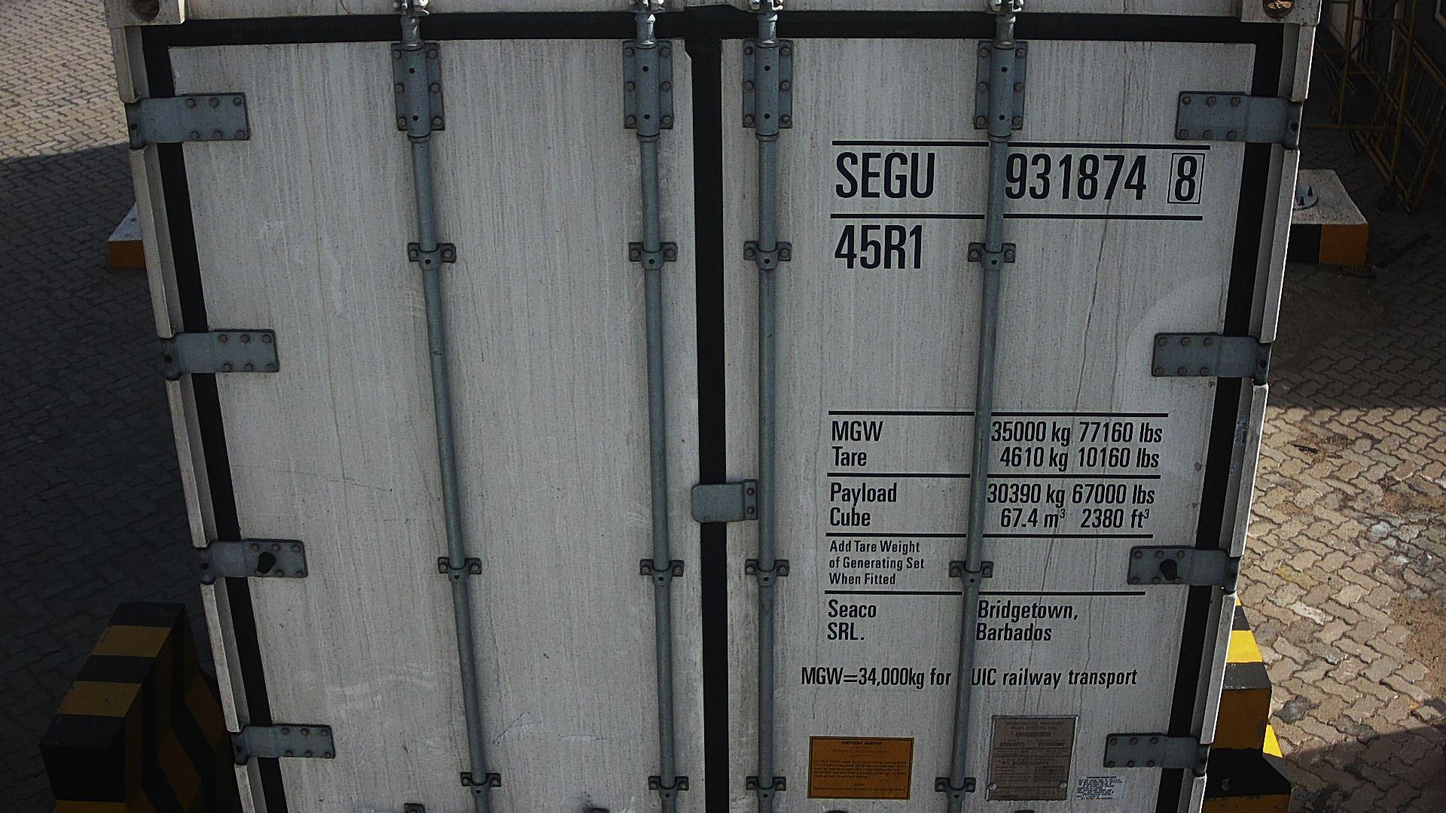container-numbers: (825, 146, 1211, 206), (829, 221, 933, 274)
